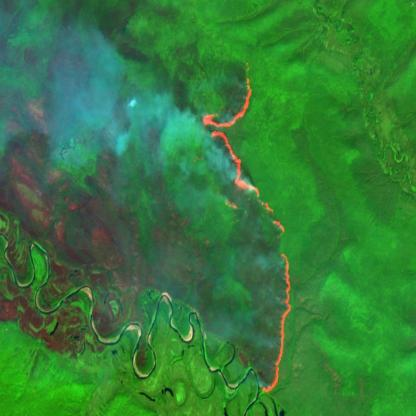fire: (200, 57, 294, 399)
